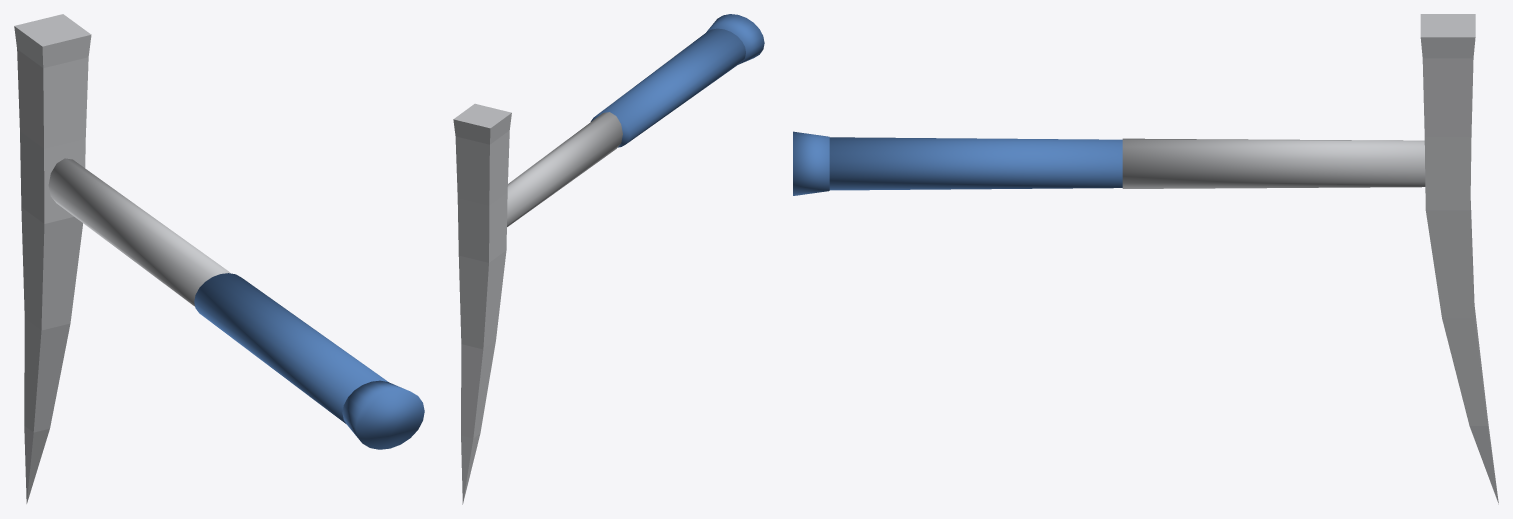
The model's file is rock_pick.glb.
3 views of the same model, side by side, from view 1: azimuth 30°, elevation 25°; view 2: azimuth 150°, elevation 25°; view 3: azimuth 270°, elevation 25° (orthographic). The views are drawn at different scales.
Parts seen in each view (by area): view 1: rock_pick; view 2: rock_pick; view 3: rock_pick.
Boxes of the visible parts, x1,y1,x2,y2 form: rock_pick: [14, 14, 424, 503]; rock_pick: [453, 14, 764, 504]; rock_pick: [793, 14, 1498, 504].
Size of the model in its own units: 0.038 by 0.26 by 0.347.
